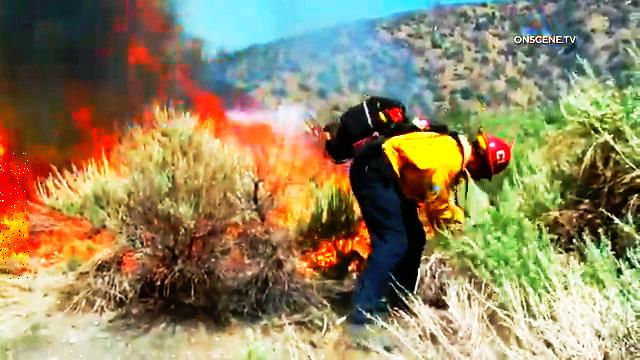fire: (0, 152, 29, 280)
